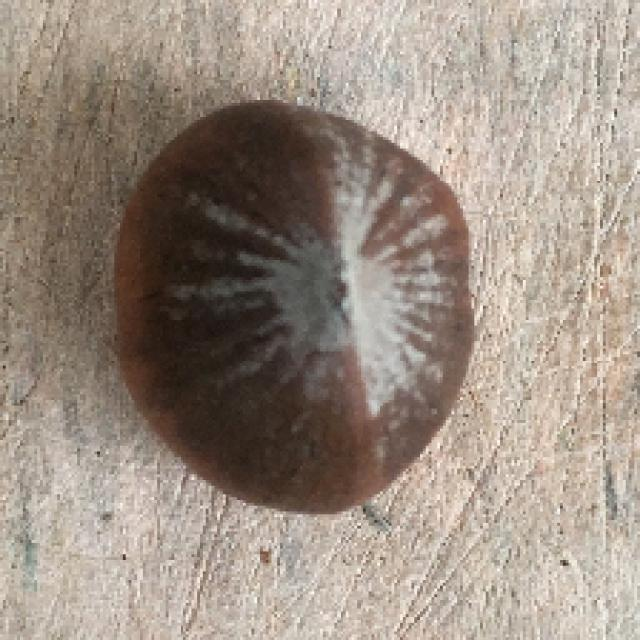damagedHazelnut: (112, 97, 488, 519)
